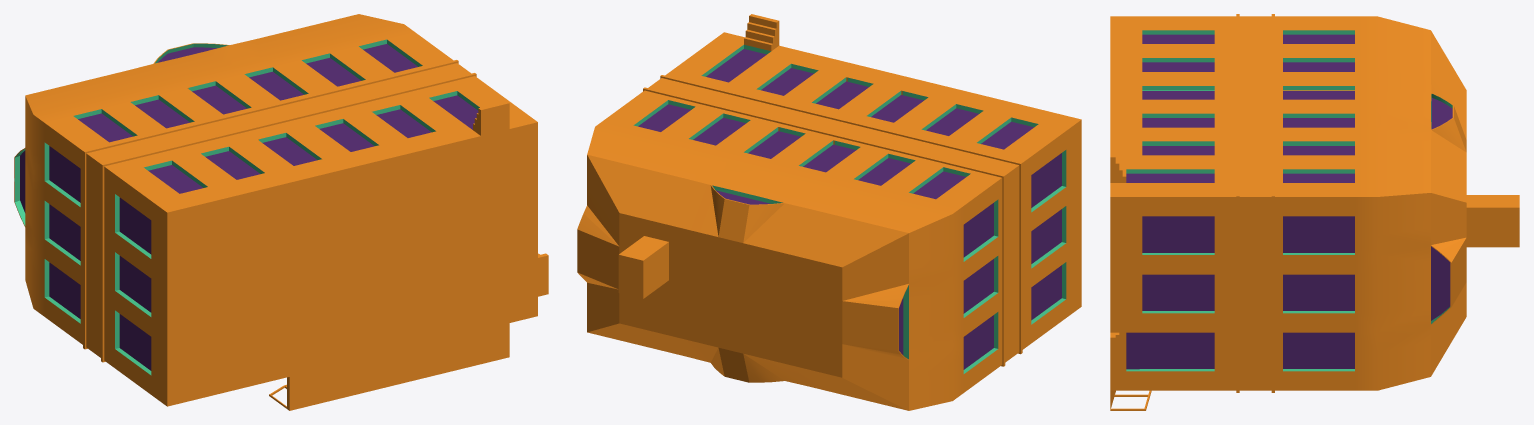
File: Dom Staroscinski.fbx
3 views of the same model, side by side, from view 1: azimuth 30°, elevation 25°; view 2: azimuth 150°, elevation 25°; view 3: azimuth 270°, elevation 25° (orthographic). The views are drawn at different scales.
Parts seen in each view (by area): view 1: Dom_Starościński_Cube_002; view 2: Dom_Starościński_Cube_002; view 3: Dom_Starościński_Cube_002.
Part boxes in pixels (x1,y1,x2,y2): Dom_Starościński_Cube_002: (14,14,548,410); Dom_Starościński_Cube_002: (577,14,1081,410); Dom_Starościński_Cube_002: (1110,14,1519,410).
Size of the model in its own units: 38.61 by 24.48 by 35.8.
Materials: 1 (1 with a texture image).
